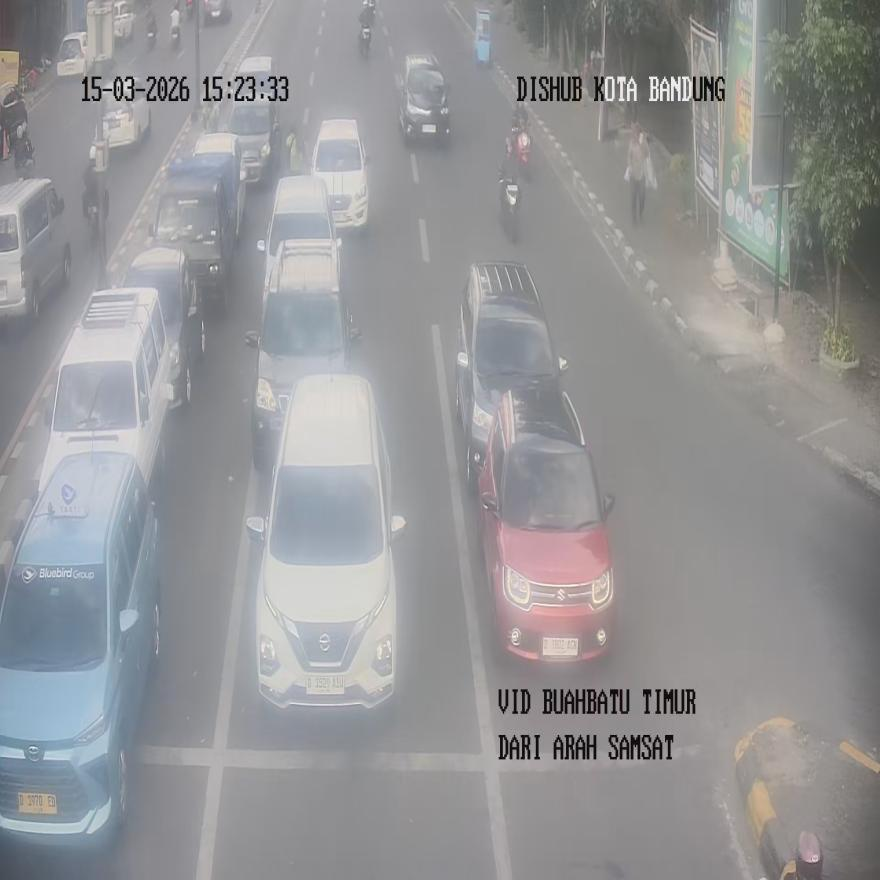Mobil: (0, 451, 160, 845), (246, 374, 404, 715), (477, 388, 615, 662), (36, 286, 171, 503), (244, 238, 360, 468), (454, 262, 569, 483), (149, 153, 236, 316), (118, 246, 203, 411), (256, 173, 342, 302), (0, 176, 71, 323), (227, 55, 279, 186), (311, 118, 369, 233), (193, 132, 246, 236), (397, 53, 450, 144)
Motor: (82, 178, 108, 242), (499, 169, 521, 242), (508, 126, 531, 181), (12, 127, 34, 178), (286, 130, 305, 175), (359, 10, 373, 58), (146, 10, 157, 49), (170, 16, 182, 49), (360, 0, 375, 24), (186, 0, 195, 19)
